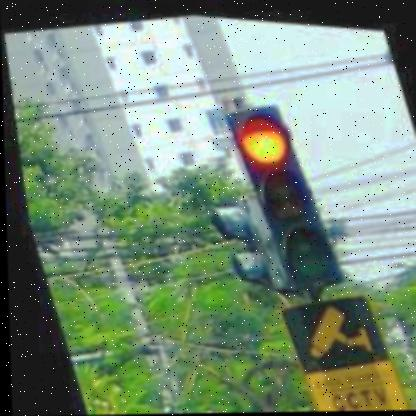Traffic Light -Red-: (220, 93, 340, 289)
